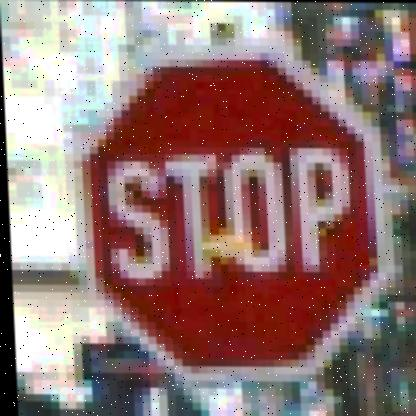Stop Sign: (70, 44, 398, 380)
